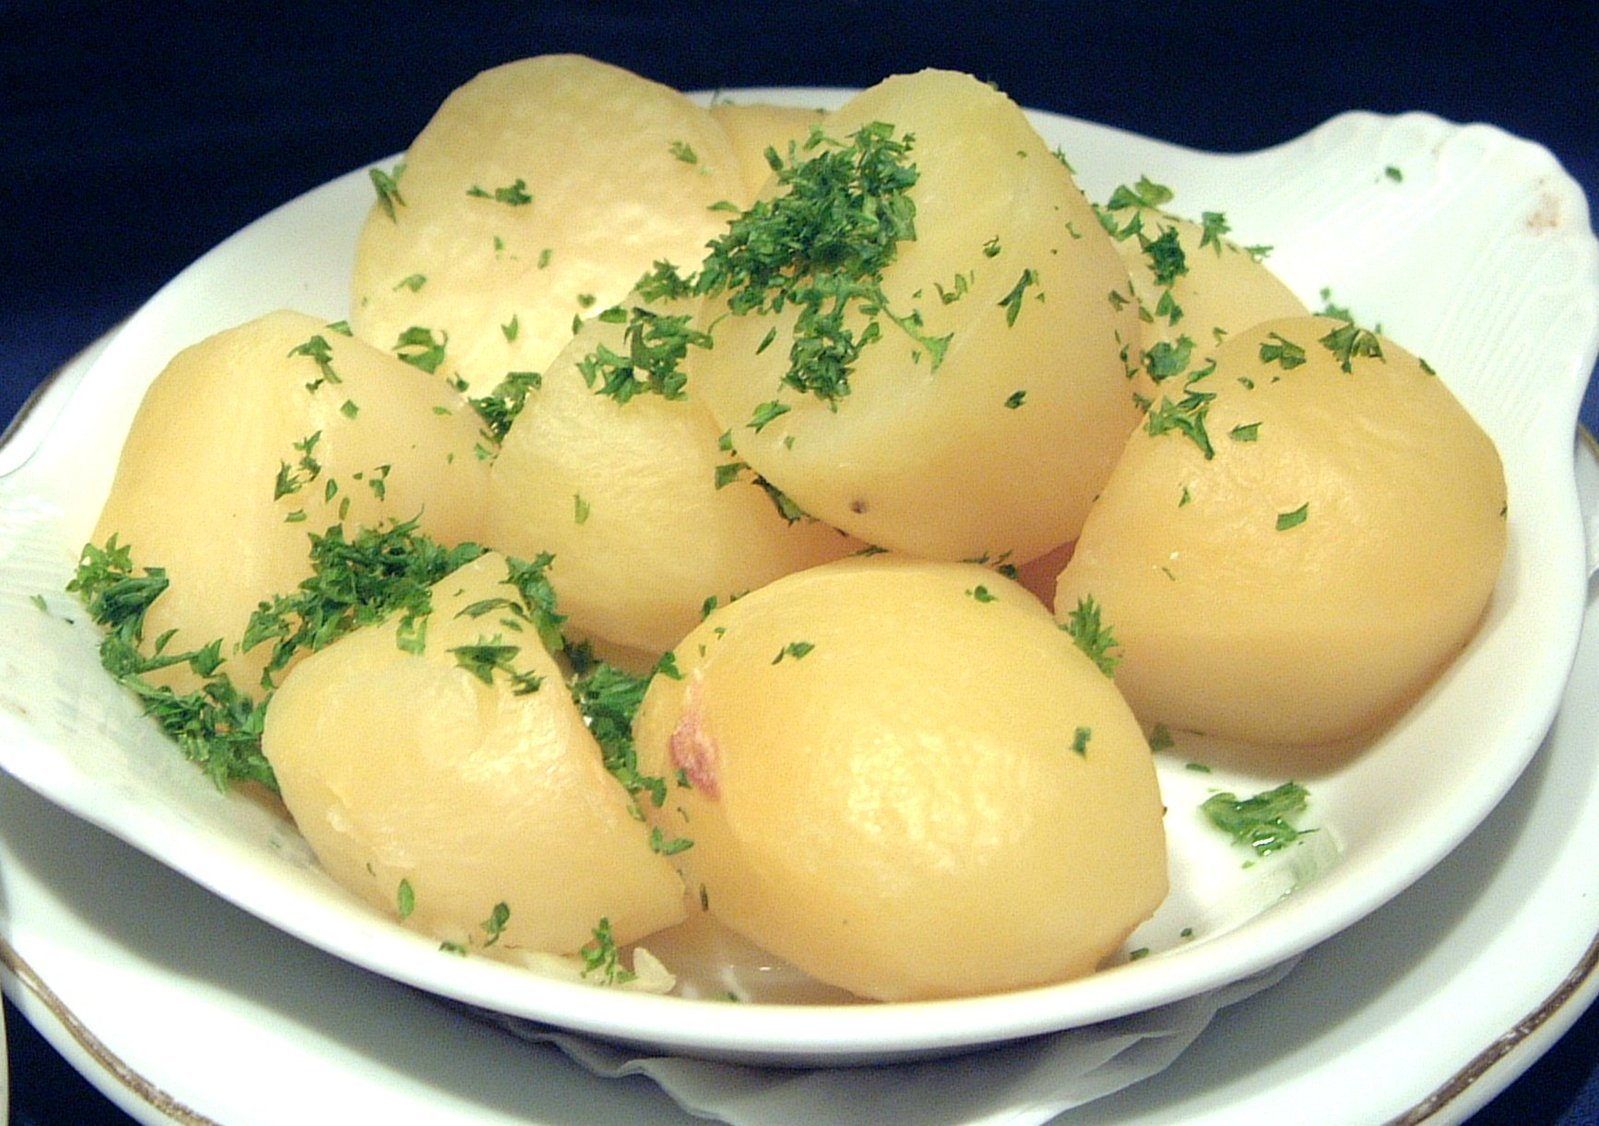boiled potatoes: (651, 559, 1168, 979), (704, 102, 1132, 530), (256, 548, 668, 960), (1094, 350, 1501, 724), (101, 333, 487, 724), (381, 63, 739, 381), (487, 302, 793, 637)
